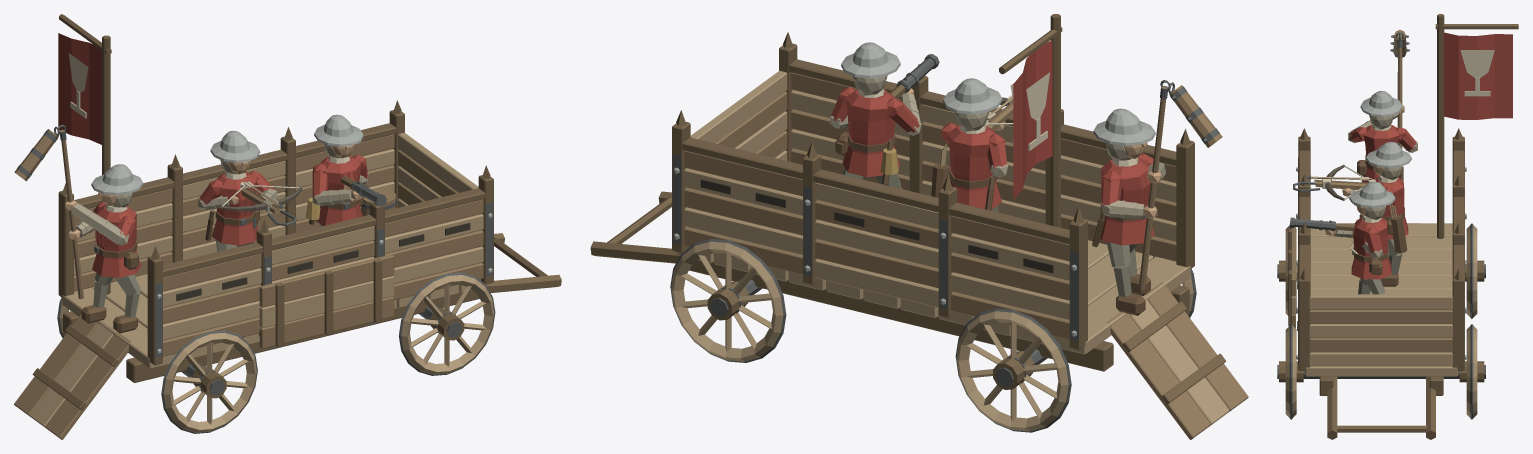
File: war_wagon_open.glb
The picture shows the model from 3 angles, left to right: view 1: azimuth 30°, elevation 25°; view 2: azimuth 150°, elevation 25°; view 3: azimuth 270°, elevation 25°; orthographic projection. The views are drawn at different scales.
Parts seen in each view (by area): view 1: war_wagon_open_oak_light, war_wagon_open_oak, war_wagon_open_oak_dark, war_wagon_open_team_cloth, war_wagon_open_iron, war_wagon_open_steel, war_wagon_open_padded_linen, war_wagon_open_leather, war_wagon_open_linen, war_wagon_open_hose, war_wagon_open_black, war_wagon_open_skin; view 2: war_wagon_open_oak_light, war_wagon_open_oak, war_wagon_open_oak_dark, war_wagon_open_team_cloth, war_wagon_open_iron, war_wagon_open_steel, war_wagon_open_padded_linen, war_wagon_open_leather, war_wagon_open_black, war_wagon_open_linen, war_wagon_open_hose, war_wagon_open_skin; view 3: war_wagon_open_oak_light, war_wagon_open_oak_dark, war_wagon_open_team_cloth, war_wagon_open_oak, war_wagon_open_iron, war_wagon_open_steel, war_wagon_open_linen, war_wagon_open_leather, war_wagon_open_padded_linen, war_wagon_open_hose, war_wagon_open_skin.
Boxes of the visible parts, bbox=[...] form: war_wagon_open_oak_light: bbox=[29, 132, 494, 432]; war_wagon_open_oak: bbox=[14, 129, 483, 439]; war_wagon_open_oak_dark: bbox=[32, 14, 561, 410]; war_wagon_open_team_cloth: bbox=[58, 33, 367, 277]; war_wagon_open_iron: bbox=[17, 125, 495, 433]; war_wagon_open_steel: bbox=[91, 114, 492, 353]; war_wagon_open_padded_linen: bbox=[72, 144, 368, 245]; war_wagon_open_leather: bbox=[81, 196, 363, 333]; war_wagon_open_linen: bbox=[68, 53, 355, 212]; war_wagon_open_hose: bbox=[93, 223, 322, 317]; war_wagon_open_black: bbox=[176, 181, 470, 300]; war_wagon_open_skin: bbox=[64, 145, 362, 239]; war_wagon_open_oak_light: bbox=[671, 70, 1229, 431]; war_wagon_open_oak: bbox=[684, 72, 1248, 439]; war_wagon_open_oak_dark: bbox=[590, 14, 1225, 404]; war_wagon_open_team_cloth: bbox=[831, 40, 1160, 245]; war_wagon_open_iron: bbox=[670, 54, 1219, 432]; war_wagon_open_steel: bbox=[673, 42, 1155, 336]; war_wagon_open_padded_linen: bbox=[829, 76, 1165, 218]; war_wagon_open_leather: bbox=[835, 132, 1150, 315]; war_wagon_open_black: bbox=[700, 78, 1053, 273]; war_wagon_open_linen: bbox=[858, 72, 1138, 166]; war_wagon_open_hose: bbox=[843, 168, 1137, 296]; war_wagon_open_skin: bbox=[886, 75, 1161, 218]; war_wagon_open_oak_light: bbox=[1285, 176, 1477, 417]; war_wagon_open_oak_dark: bbox=[1279, 14, 1518, 439]; war_wagon_open_team_cloth: bbox=[1349, 32, 1512, 279]; war_wagon_open_oak: bbox=[1291, 30, 1453, 352]; war_wagon_open_iron: bbox=[1277, 32, 1485, 419]; war_wagon_open_steel: bbox=[1296, 90, 1466, 359]; war_wagon_open_linen: bbox=[1322, 50, 1494, 253]; war_wagon_open_leather: bbox=[1354, 155, 1407, 286]; war_wagon_open_padded_linen: bbox=[1333, 113, 1417, 258]; war_wagon_open_hose: bbox=[1358, 180, 1402, 294]; war_wagon_open_skin: bbox=[1325, 105, 1404, 237].
Size of the model in its own units: 6.16 by 3.93 by 2.94.
